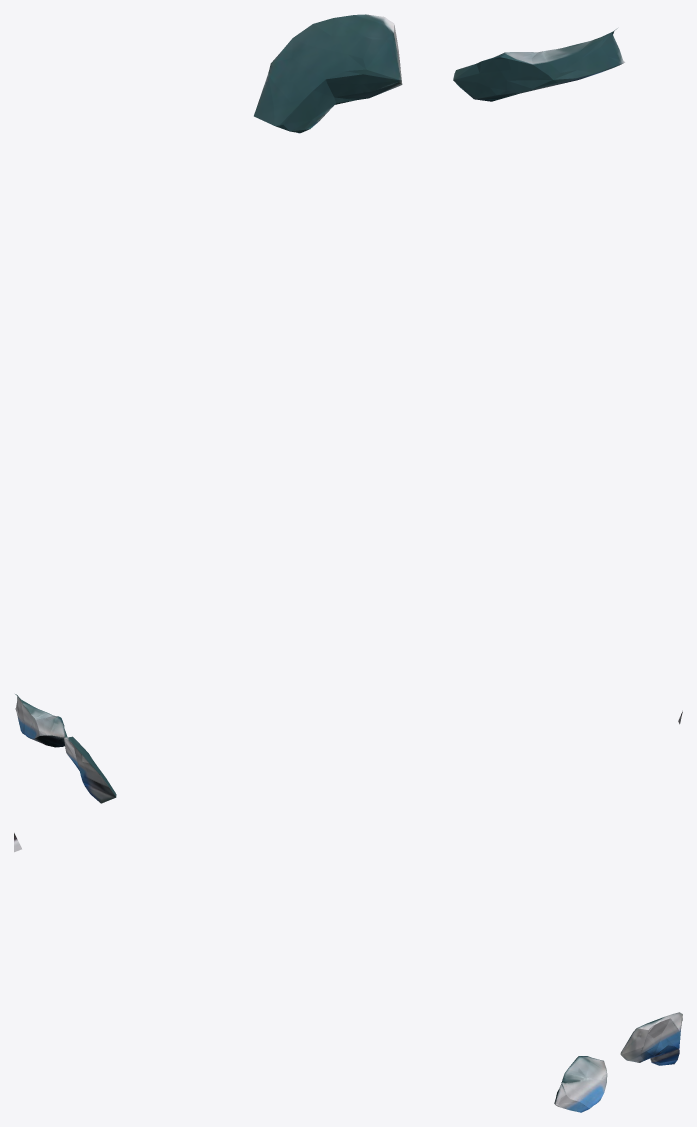
3 renders of one model, top to bottom at view 1: azimuth 30°, elevation 25°; view 2: azimuth 150°, elevation 25°; view 3: azimuth 270°, elevation 25°, orthographic. The views are drawn at different scales.
Size of the model in its own units: 2.02 by 0.2535 by 1.81.
1 material, 1 textured.
